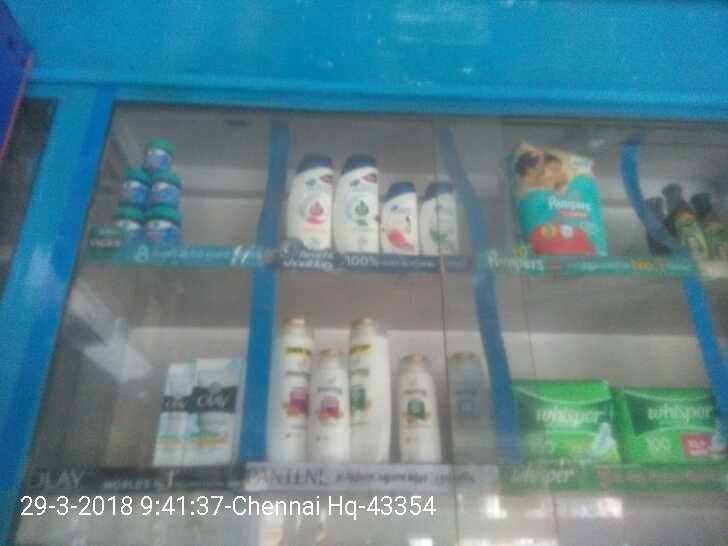vicks: (118, 137, 184, 241)
